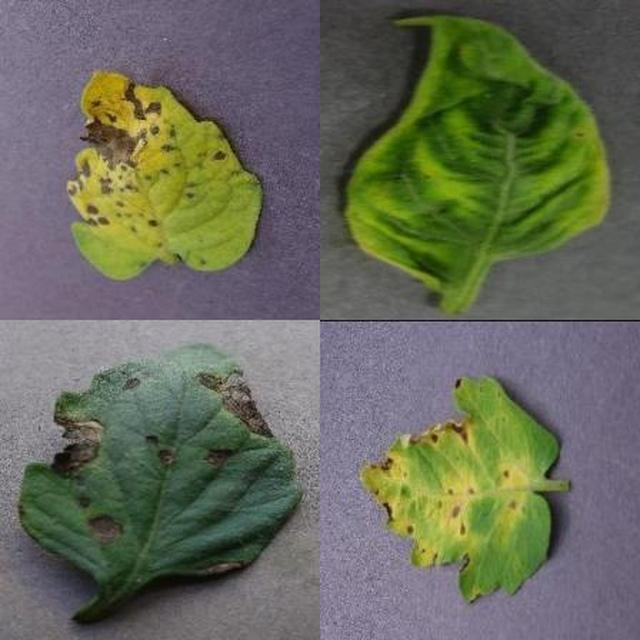Septoria Leaf: (231, 218, 640, 640)
